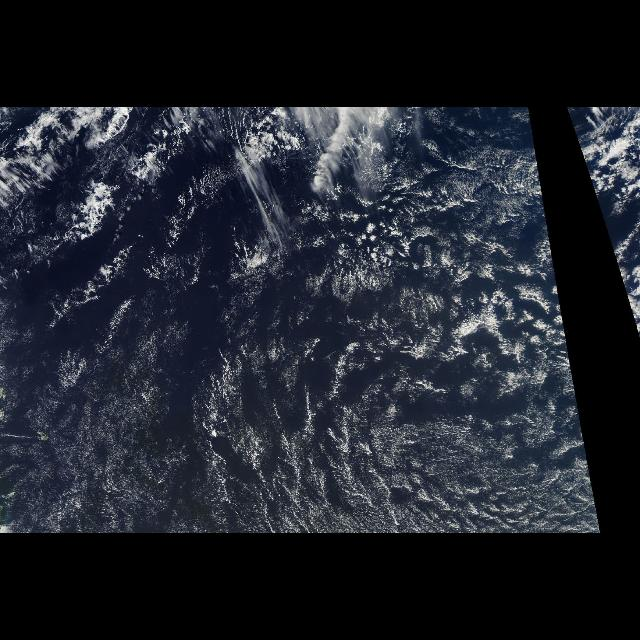Gravel: (271, 224, 574, 380)
Sugar: (2, 142, 600, 534)
